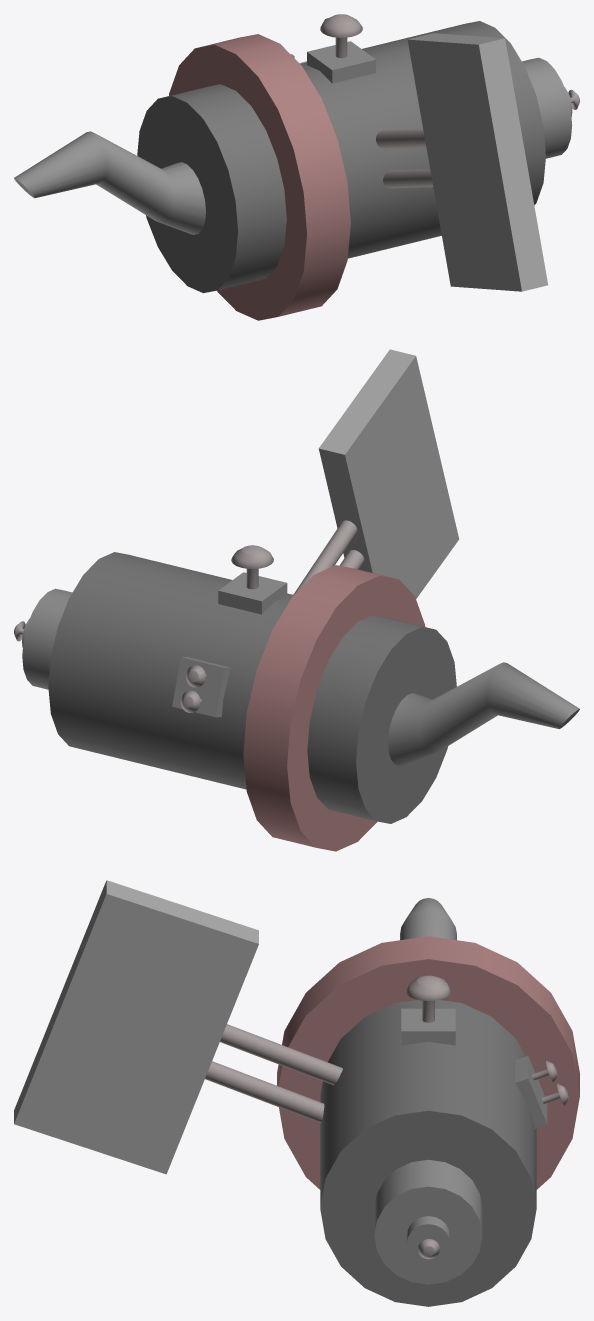
Rendered from Space_Junk_JG.fbx.
3 renders of one model, top to bottom at view 1: azimuth 30°, elevation 25°; view 2: azimuth 150°, elevation 25°; view 3: azimuth 270°, elevation 25°, orthographic. The views are drawn at different scales.
Visible parts, largest first — view 1: Base, Part2, Extention3, Extention1, Extention, Part, Screw, Pipe1, Pipe; view 2: Base, Extention3, Part2, Extention1, Extention, Part1, Part, Pipe1, Screw; view 3: Part2, Base, Extention3, Extention, Pipe1, Pipe, Part, Extention1, Extention2, Part1, Screw.
Part boxes in pixels (x1,y1,x2,y2): Base: (137,21,545,293); Part2: (407,33,548,291); Extention3: (169,34,350,320); Extention1: (14,131,205,234); Extention: (522,57,572,158); Part: (307,41,375,83); Screw: (320,14,362,58); Pipe1: (376,129,426,148); Pipe: (383,169,433,188); Base: (48,552,456,823); Extention3: (243,565,425,851); Part2: (318,349,459,598); Extention1: (388,662,579,765); Extention: (22,588,72,689); Part1: (172,657,230,717); Part: (218,572,287,614); Pipe1: (293,520,357,594); Screw: (231,545,273,589); Part2: (14,880,258,1174); Base: (320,1000,536,1306); Extention3: (277,936,579,1189); Extention: (374,1159,482,1284); Pipe1: (220,1024,342,1085); Pipe: (205,1061,324,1123); Part: (401,1008,455,1045); Extention1: (400,898,456,940); Extention2: (406,1216,449,1263); Part1: (515,1056,547,1128); Screw: (405,975,451,1022).
Size of the model in its own units: 6.41 by 3.86 by 5.23.
